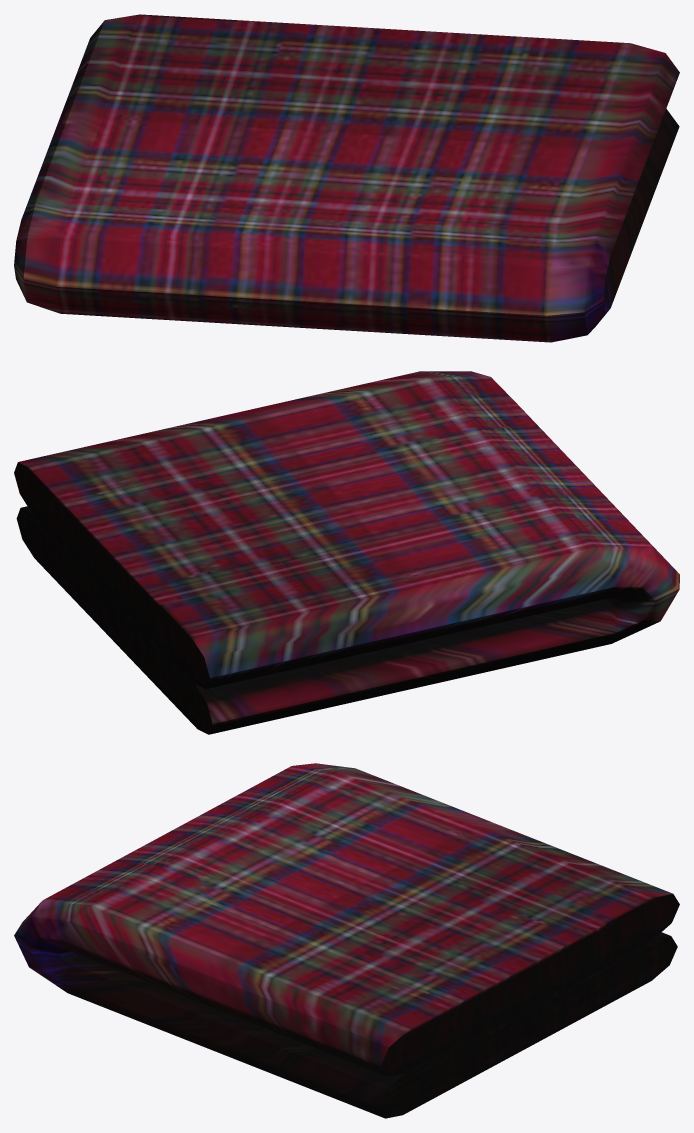
File: blanket.glb
3 views of the same model, one above another, from view 1: azimuth 30°, elevation 25°; view 2: azimuth 150°, elevation 25°; view 3: azimuth 270°, elevation 25° (orthographic). The views are drawn at different scales.
Visible parts, largest first — view 1: blanket; view 2: blanket; view 3: blanket.
Boxes of the visible parts, x1=… form: blanket: x1=14, y1=14, x2=679, y2=342; blanket: x1=14, y1=371, x2=679, y2=734; blanket: x1=14, y1=763, x2=679, y2=1118.
Size of the model in its own units: 5.27 by 0.9245 by 5.28.
1 material, 1 textured.
